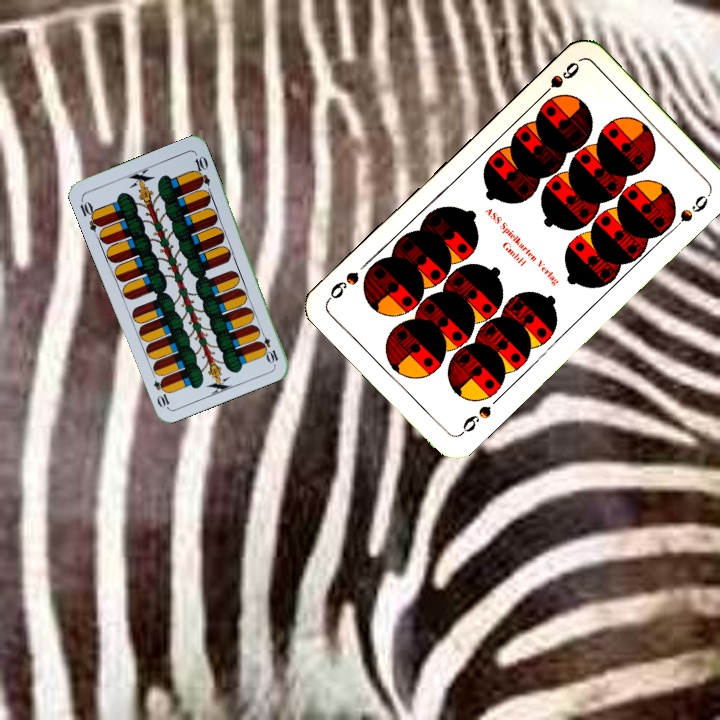E10: (76, 195, 104, 234), (255, 326, 281, 366)
S9: (534, 57, 582, 103), (455, 401, 494, 439)
